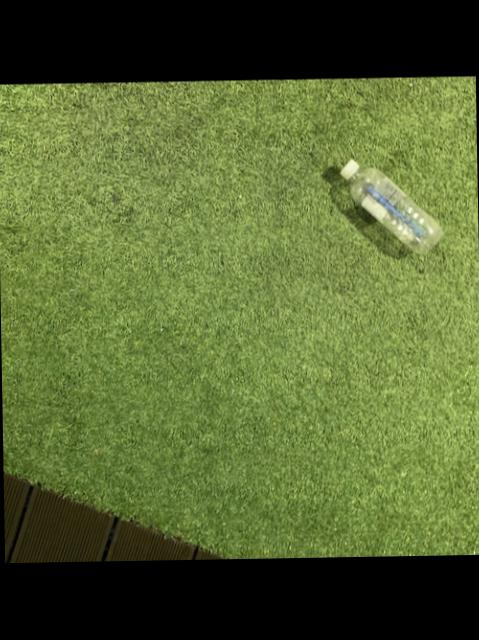plastic: (341, 162, 442, 255)
